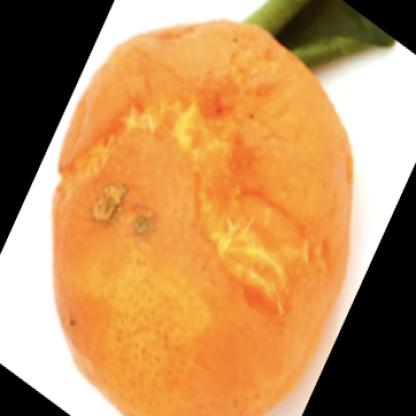rotten: (54, 20, 353, 416)
